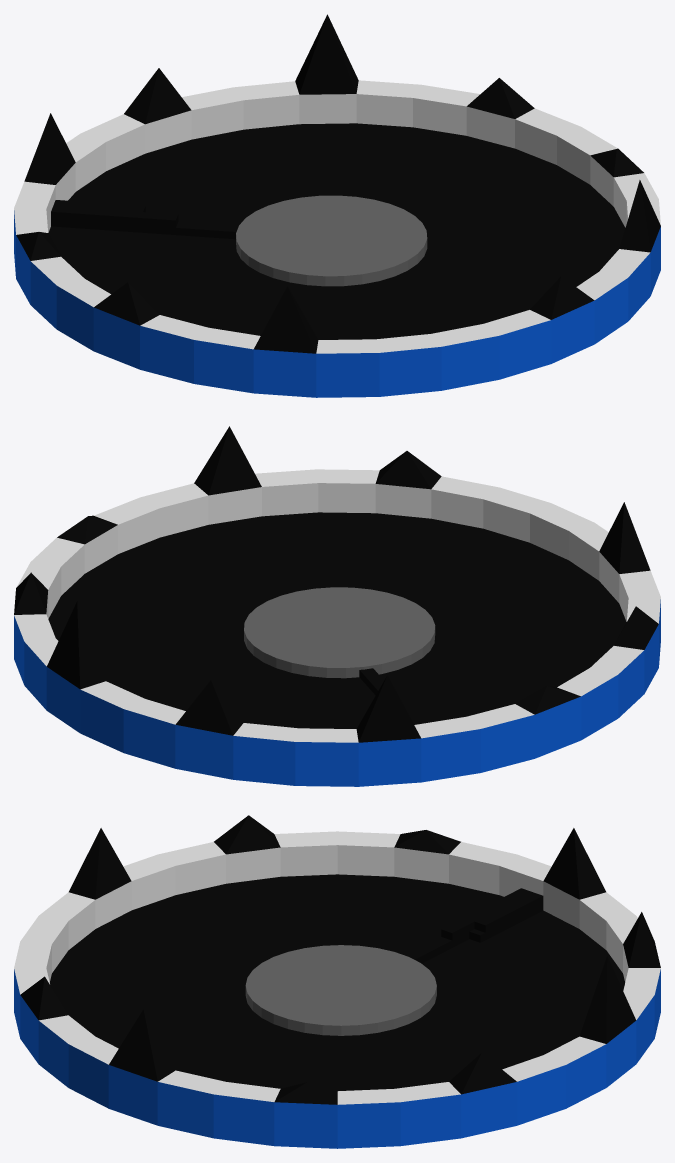
3 renders of one model, top to bottom at view 1: azimuth 30°, elevation 25°; view 2: azimuth 150°, elevation 25°; view 3: azimuth 270°, elevation 25°, orthographic.
Parts seen in each view (by area): view 1: Base; view 2: Base; view 3: Base.
Boxes of the visible parts, x1=… form: Base: x1=14, y1=14, x2=660, y2=397; Base: x1=14, y1=426, x2=660, y2=786; Base: x1=14, y1=815, x2=660, y2=1148.
Size of the model in its own units: 400 by 80 by 400.
